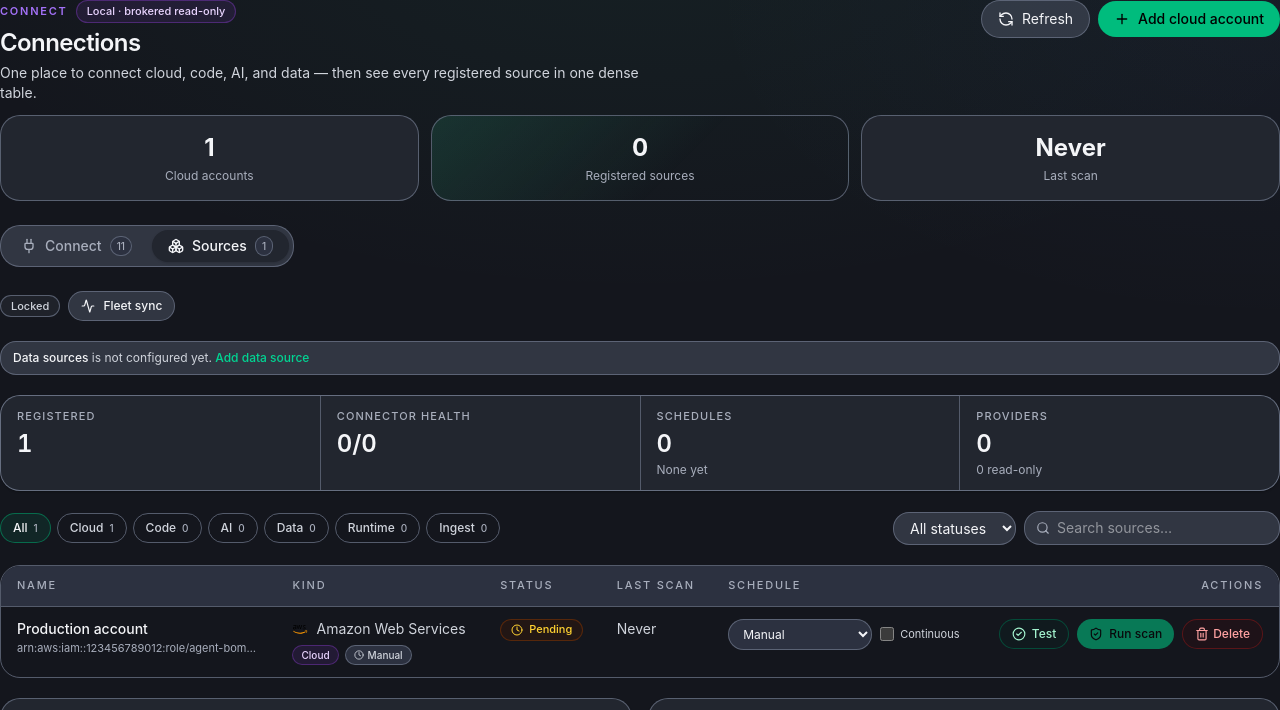
ConnectionsPage — Sources segment (unified table) › deletes a connection through the API
The width and height of the screenshot is (1280, 710).
Expected: the text "Production account" is shown, [17,619,148,639]
Click the button with aria-label "Delete Production account": x=1223, y=634 [1182,619,1263,649]
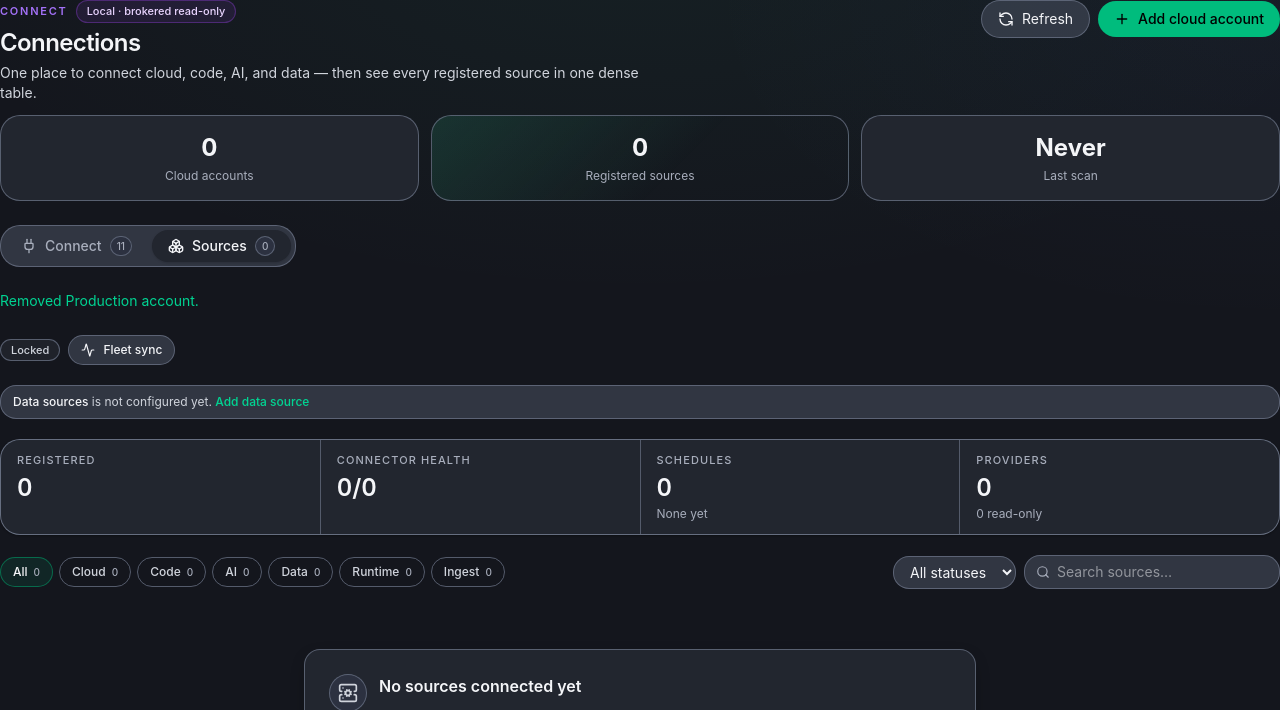
Result: the heading "No sources connected yet" is shown at [379,676,582,696]
